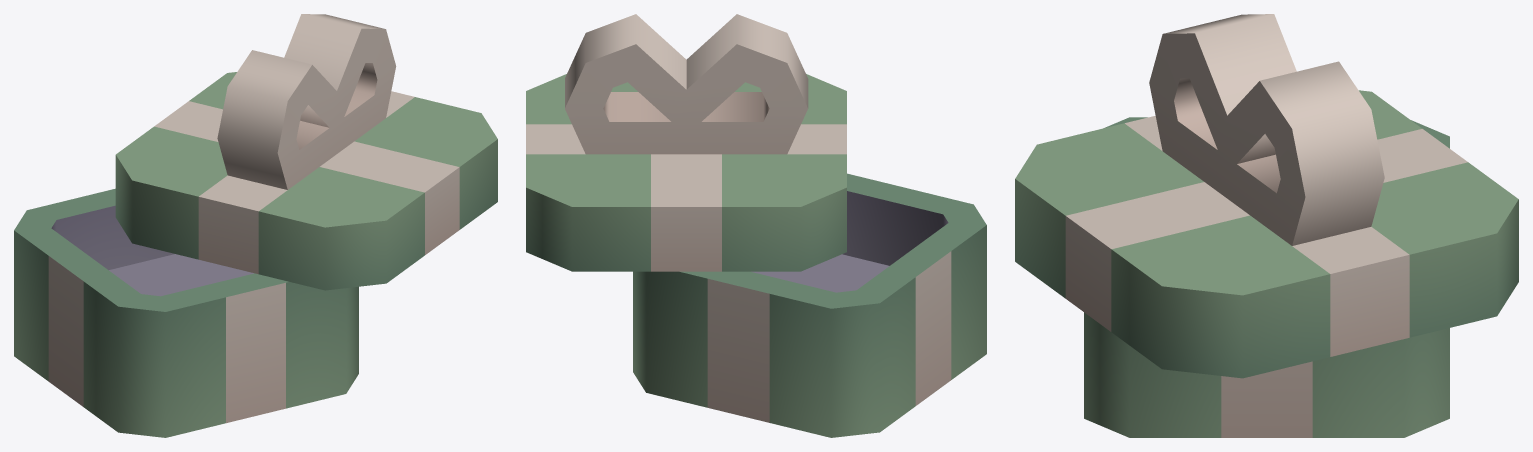
The model's file is present-open-b.glb.
The picture shows the model from 3 angles, left to right: view 1: azimuth 30°, elevation 25°; view 2: azimuth 150°, elevation 25°; view 3: azimuth 270°, elevation 25°; orthographic projection. The views are drawn at different scales.
Parts seen in each view (by area): view 1: present-open-b; view 2: present-open-b; view 3: present-open-b.
Boxes of the visible parts, left/top/right/bottom form: present-open-b: left=14, top=14, right=497, bottom=437; present-open-b: left=526, top=14, right=986, bottom=437; present-open-b: left=1015, top=14, right=1518, bottom=437.
Size of the model in its own units: 0.5063 by 0.353 by 0.4126.
